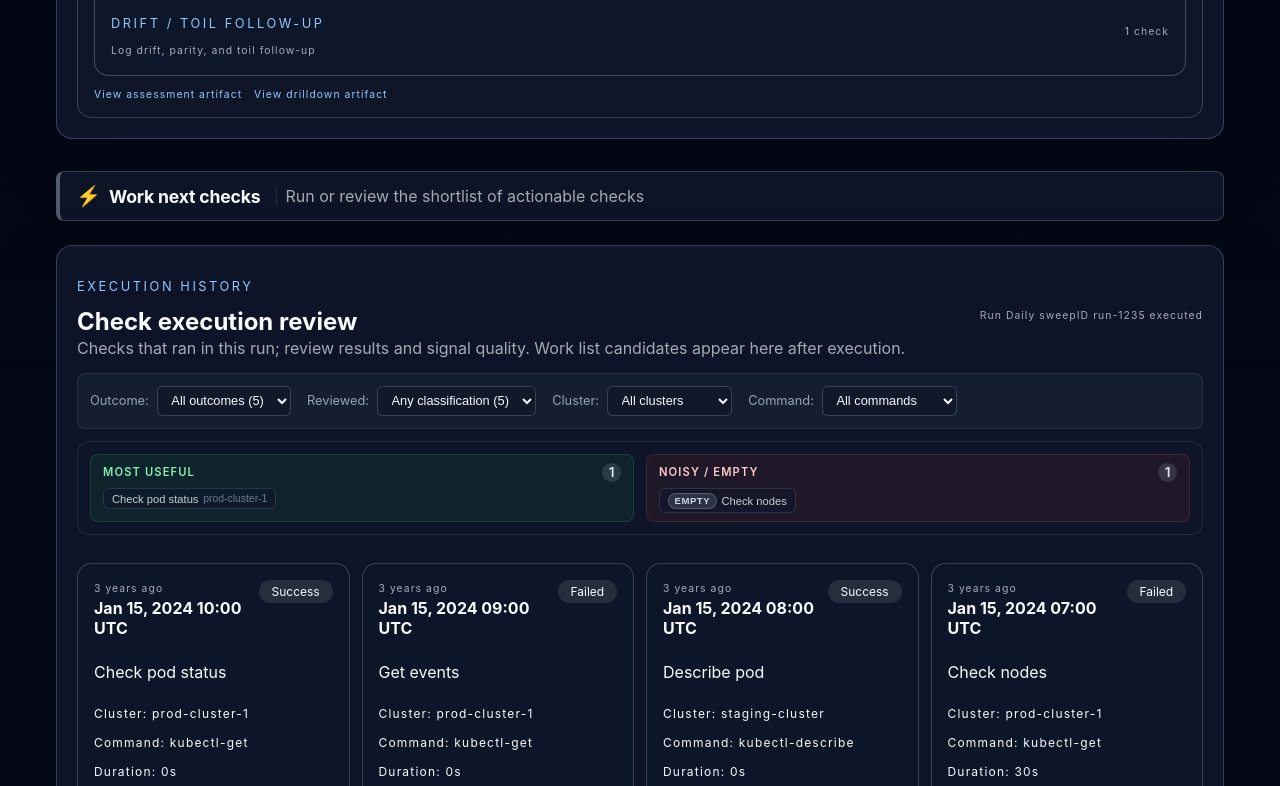
it: ExecutionHistoryPanel UI tests › 'Showing X of Y' count display › shows correct count when filters reduce results
(page scrolled)
# Apply a filter
Step 1. Select "Unreviewed (2)" in the dropdown labelled "Reviewed:" → coordinates (457, 401), box x1=377 y1=386 x2=536 y2=416
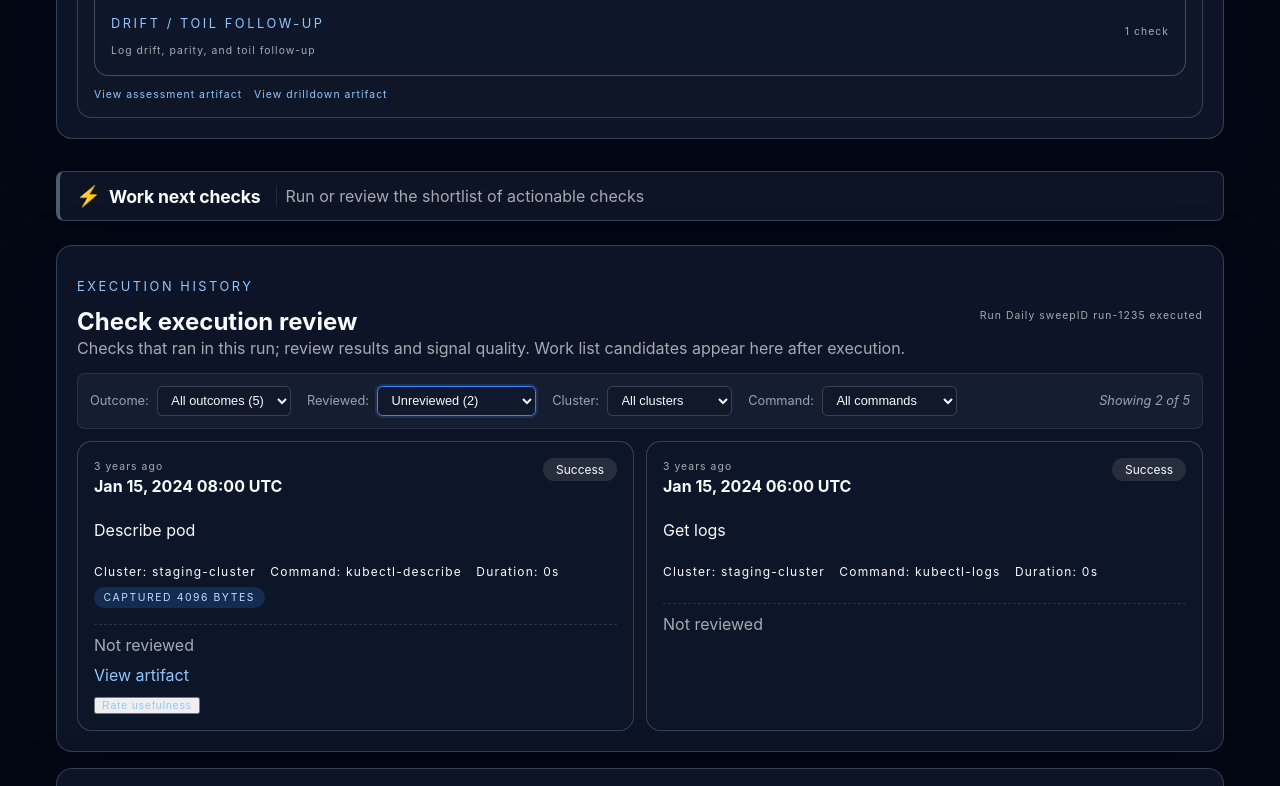
expect the text "Showing 2 of 5" is shown: met, box x1=1099 y1=393 x2=1190 y2=408
